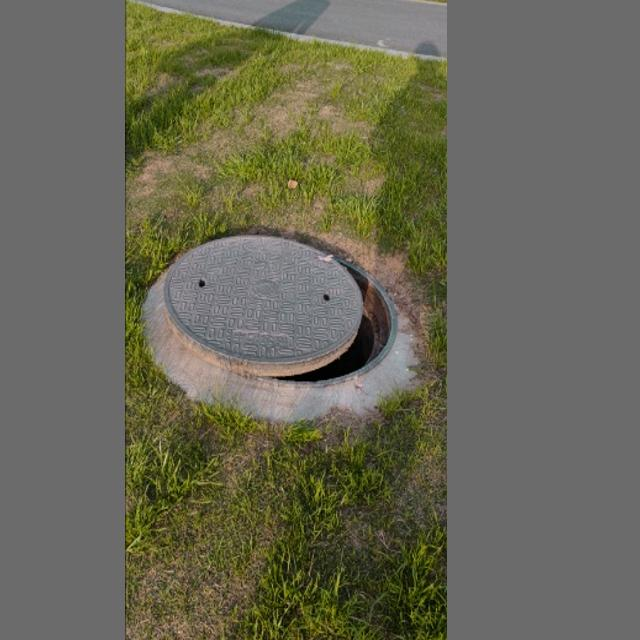uncovered: (160, 230, 401, 389)
